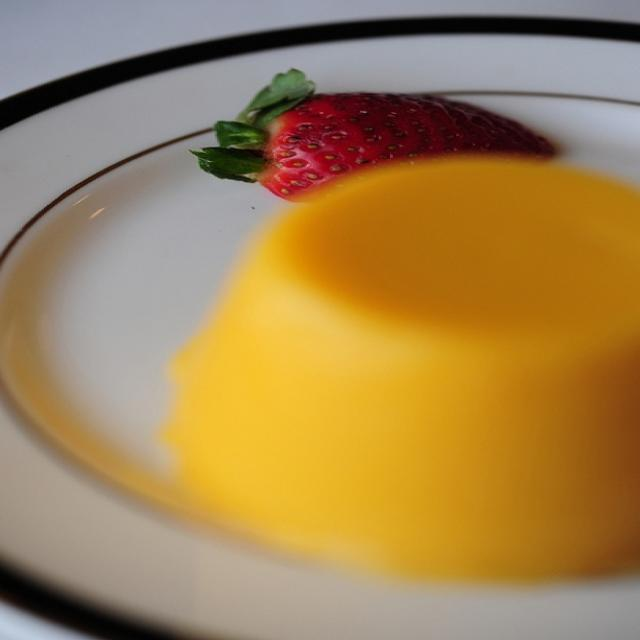蛋糕甜品: (17, 21, 634, 607)
